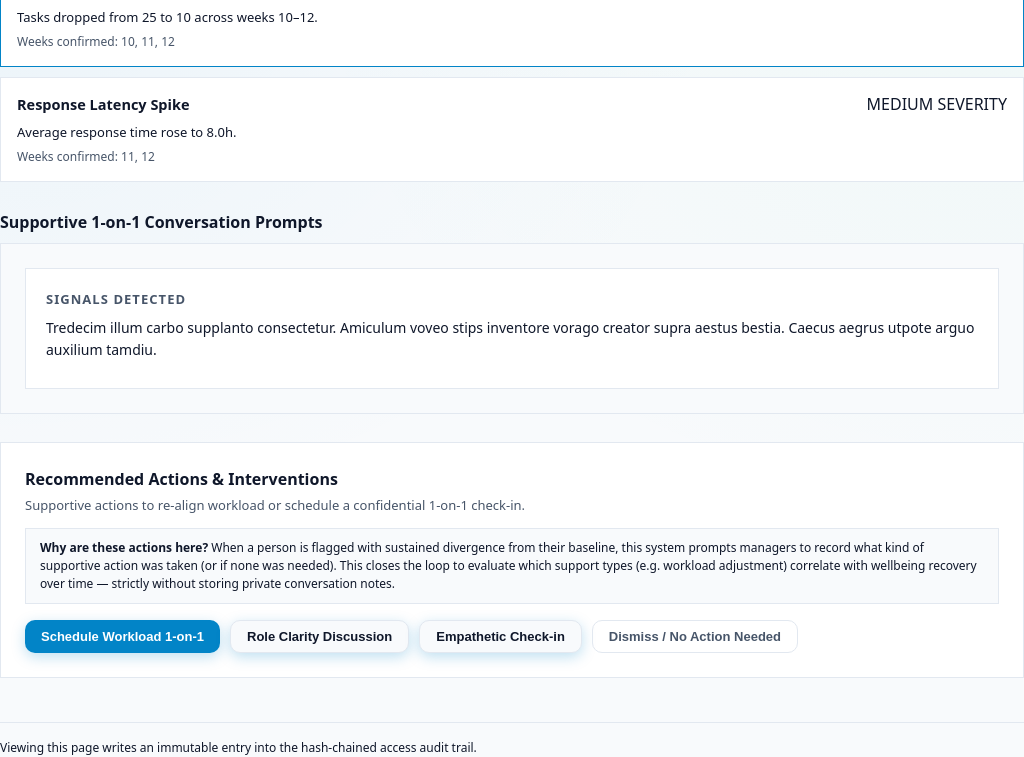
Test case: PersonDetail (S5) › allows submitting an intervention recommendation
(page scrolled)
Click the button "Schedule Workload 1-on-1": (122, 636) [25,620,220,653]
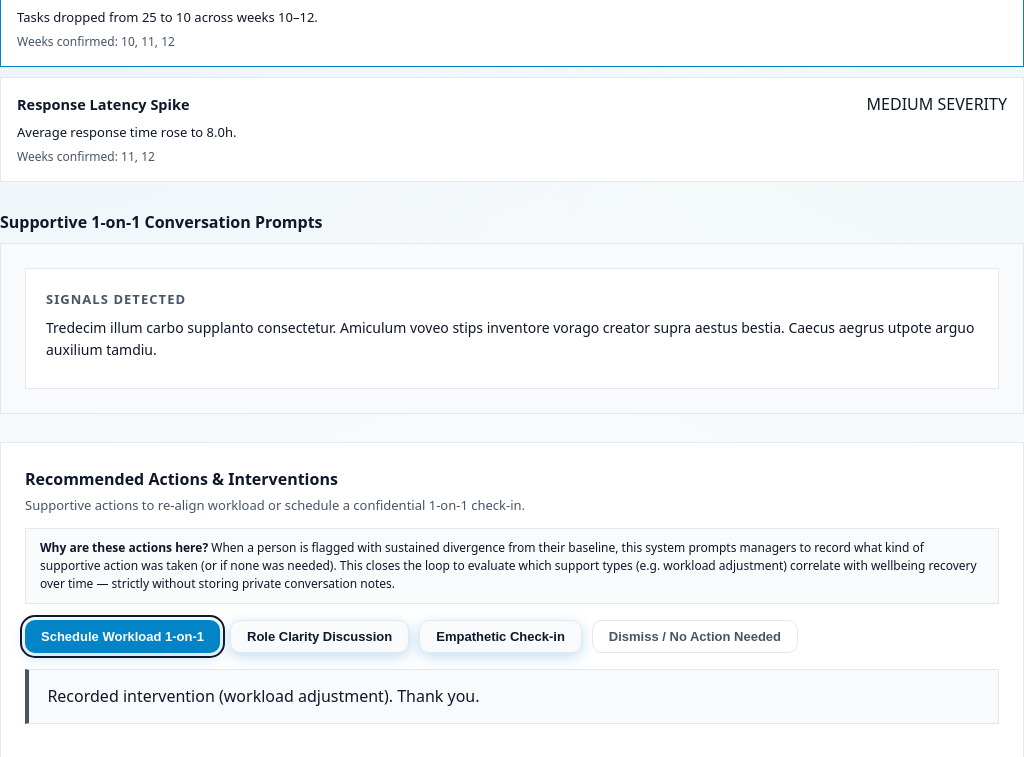
Expected: the text "Recorded intervention (workload adjustment). Thank you." is shown, [25,669,999,724]
